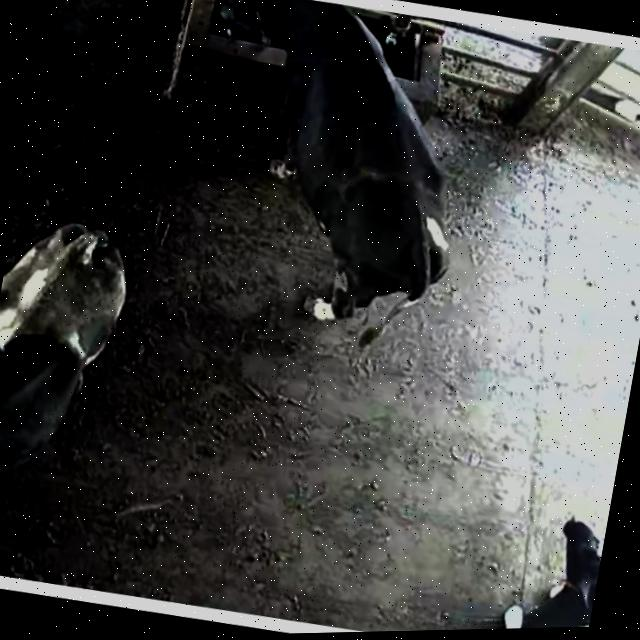drink: (185, 0, 404, 114)
